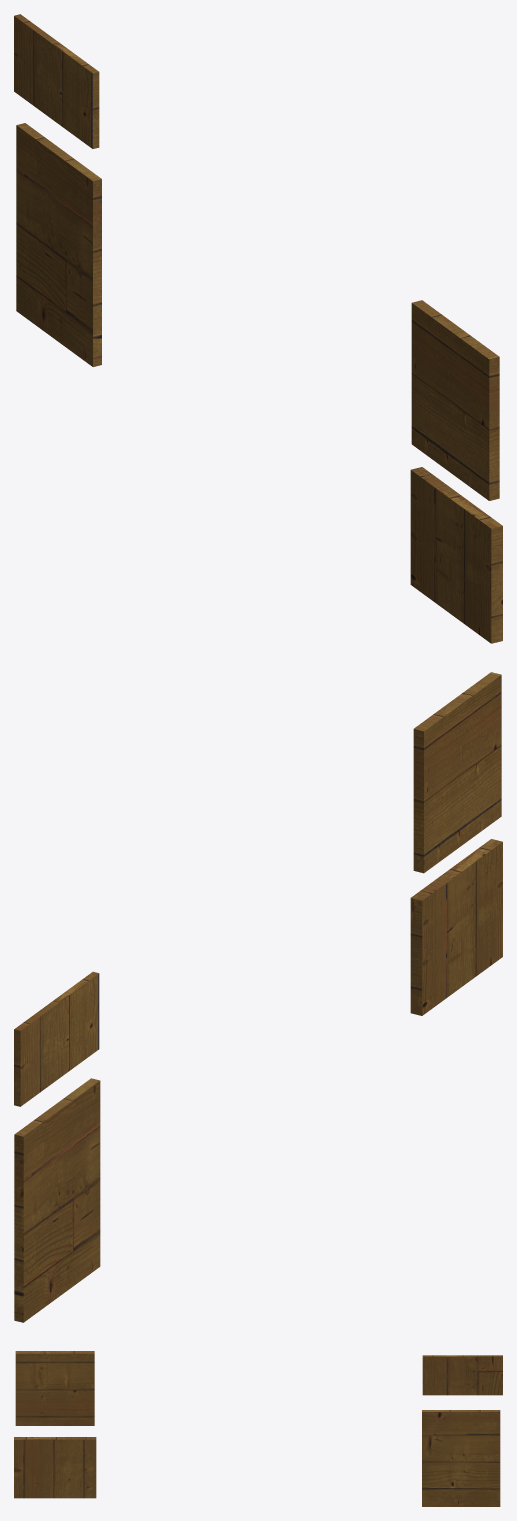
Rendered from carteles.fbx.
3 renders of one model, top to bottom at view 1: azimuth 30°, elevation 25°; view 2: azimuth 150°, elevation 25°; view 3: azimuth 270°, elevation 25°, orthographic. The views are drawn at different scales.
Parts seen in each view (by area): view 1: cartel4; view 2: cartel4; view 3: cartel4.
Boxes of the visible parts, bbox=[...] form: cartel4: bbox=[14, 14, 502, 643]; cartel4: bbox=[14, 672, 502, 1322]; cartel4: bbox=[14, 1351, 502, 1506].
Size of the model in its own units: 13.54 by 323 by 935.
